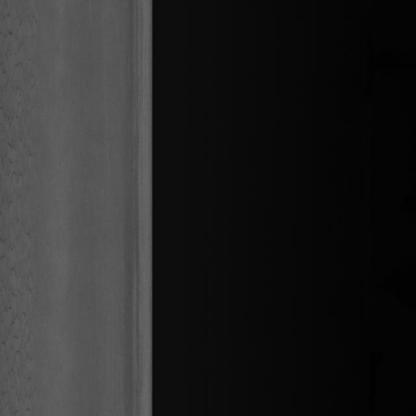silk_spot: (5, 23, 47, 366)
